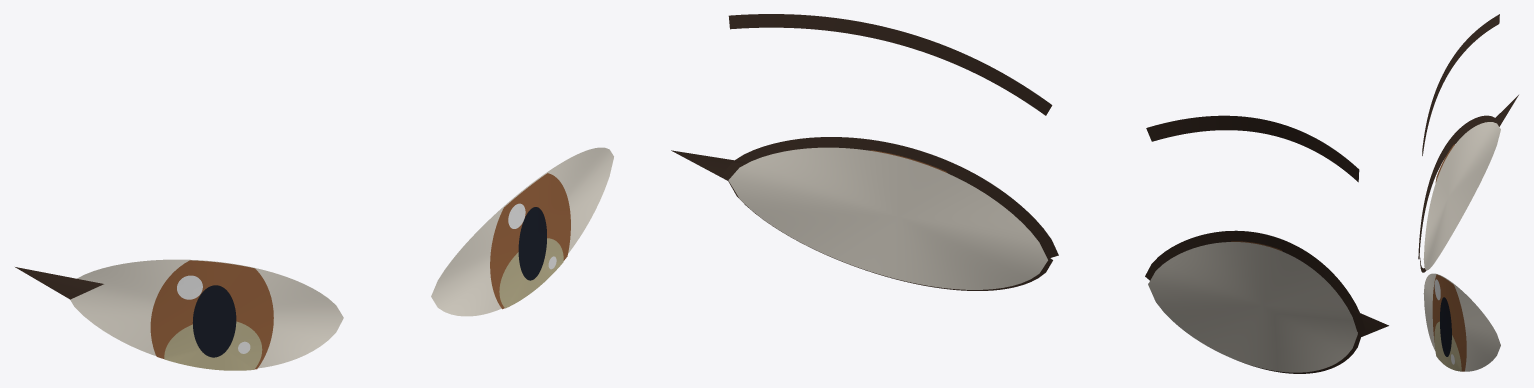
3 renders of one model, left to right at view 1: azimuth 30°, elevation 25°; view 2: azimuth 150°, elevation 25°; view 3: azimuth 270°, elevation 25°, orthographic. The views are drawn at different scales.
Parts seen in each view (by area): view 1: Eye_White_-1, Eye_White_1, Eye_Iris_-1, Eye_Iris_1, Eye_Iris_Light_-1, Eye_Pupil_-1, Eye_Iris_Light_1, Eye_Pupil_1, Eye_LashWing_-1, Eye_Glint_-1_0; view 2: Eye_White_1, Eye_White_-1, Eyebrow_1, Eye_UpperLid_1, Eyebrow_-1, Eye_UpperLid_-1, Eye_LashWing_1; view 3: Eye_White_-1, Eye_White_1, Eye_Iris_1, Eye_UpperLid_-1, Eyebrow_-1, Eye_Iris_Light_1, Eye_Pupil_1, Eye_LashWing_-1, Eye_Glint_1_0.
Boxes of the visible parts, x1,y1,x2,y2 form: Eye_White_-1: [70, 259, 343, 368]; Eye_White_1: [431, 147, 613, 316]; Eye_Iris_-1: [150, 260, 273, 369]; Eye_Iris_1: [490, 173, 570, 309]; Eye_Iris_Light_-1: [164, 321, 262, 370]; Eye_Pupil_-1: [192, 285, 236, 357]; Eye_Iris_Light_1: [499, 238, 563, 308]; Eye_Pupil_1: [518, 207, 546, 280]; Eye_LashWing_-1: [15, 267, 103, 299]; Eye_Glint_-1_0: [177, 275, 202, 299]; Eye_White_1: [728, 147, 1047, 289]; Eye_White_-1: [1148, 242, 1357, 372]; Eyebrow_1: [728, 14, 1052, 115]; Eye_UpperLid_1: [723, 137, 1058, 257]; Eyebrow_-1: [1146, 115, 1359, 182]; Eye_UpperLid_-1: [1145, 230, 1365, 332]; Eye_LashWing_1: [671, 150, 748, 180]; Eye_White_-1: [1423, 122, 1500, 270]; Eye_White_1: [1423, 273, 1500, 371]; Eye_Iris_1: [1432, 274, 1466, 371]; Eye_UpperLid_-1: [1418, 115, 1499, 259]; Eyebrow_-1: [1422, 14, 1499, 155]; Eye_Iris_Light_1: [1434, 321, 1461, 371]; Eye_Pupil_1: [1440, 297, 1451, 356]; Eye_LashWing_-1: [1491, 95, 1518, 126]; Eye_Glint_1_0: [1434, 279, 1440, 300].
Bounding box in the file's own units: 0.418 × 0.1484 × 0.0725.
